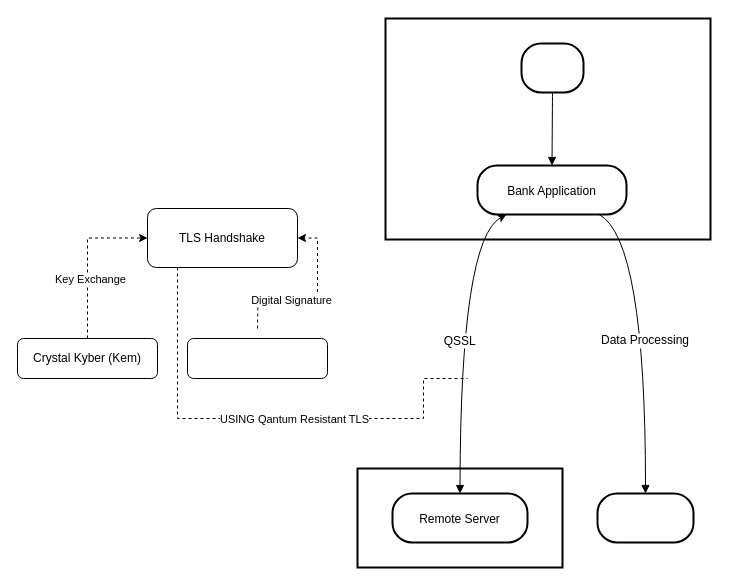
Image size: 729x585. Some labels were removed from this diagram. Here are the shapes that lost their labels. From the top down, the box of each, then its label:
(520, 42, 584, 93): User
(186, 338, 328, 378): Crystal Dilithium
(596, 492, 694, 543): Database
